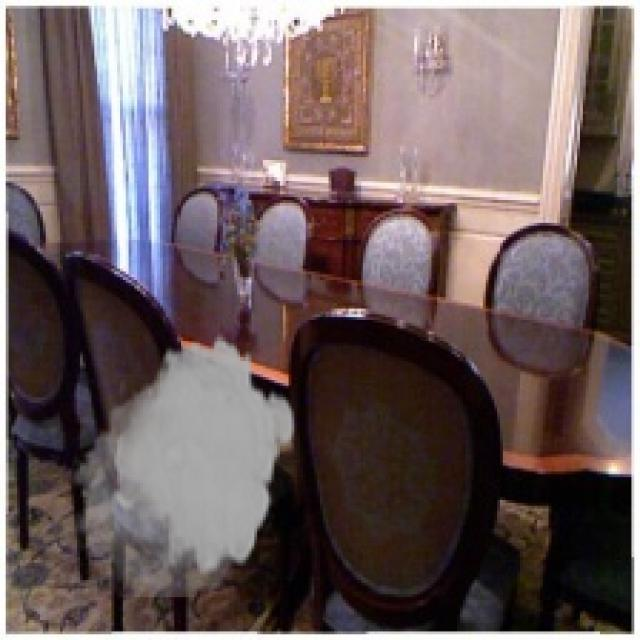Smoke: (65, 332, 298, 597)
